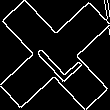L_NW: (27, 26, 83, 84)
